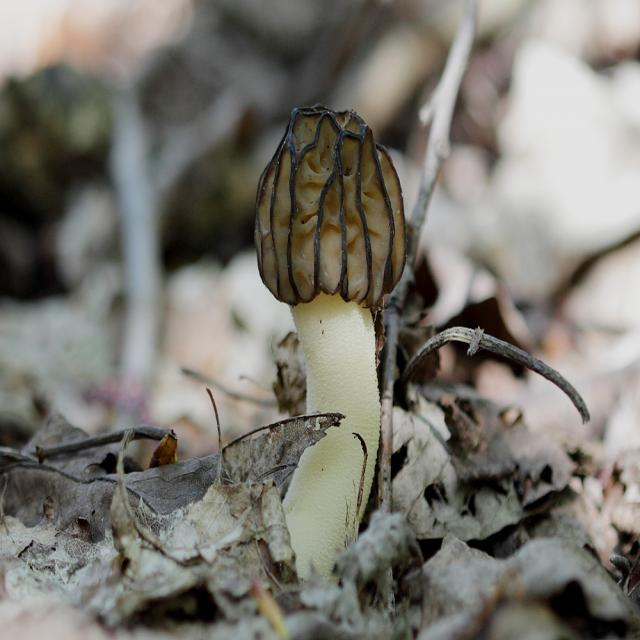Morchella esculenta: (250, 112, 407, 559)
